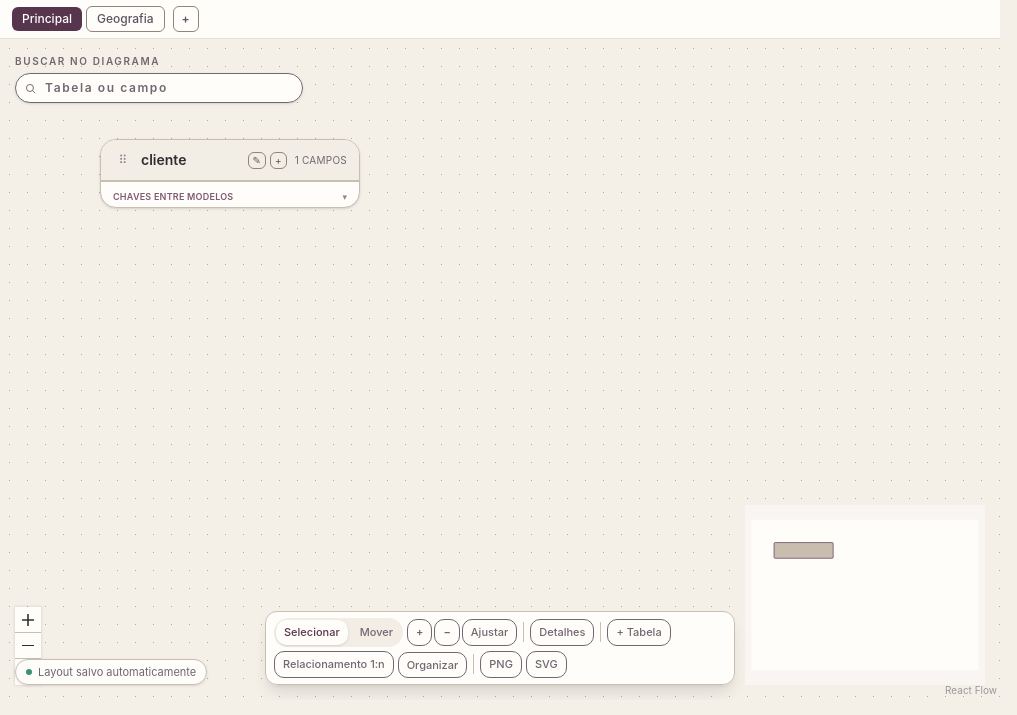
Test case: DiagramCanvas zones › deriva Chaves entre modelos para relacionamento entre zonas nas duas pontas
The image size is (1017, 715).
Check: the element with test id "diagram-node-cliente" is shown, box [100, 139, 360, 208]
Check: the element with test id "diagram-cross-zone-cliente" shows "Chaves entre modelos", box [113, 188, 347, 206]
Click the tab with test id "diagram-zone-tab-Geografia".
click(125, 19)  # box [86, 6, 164, 32]
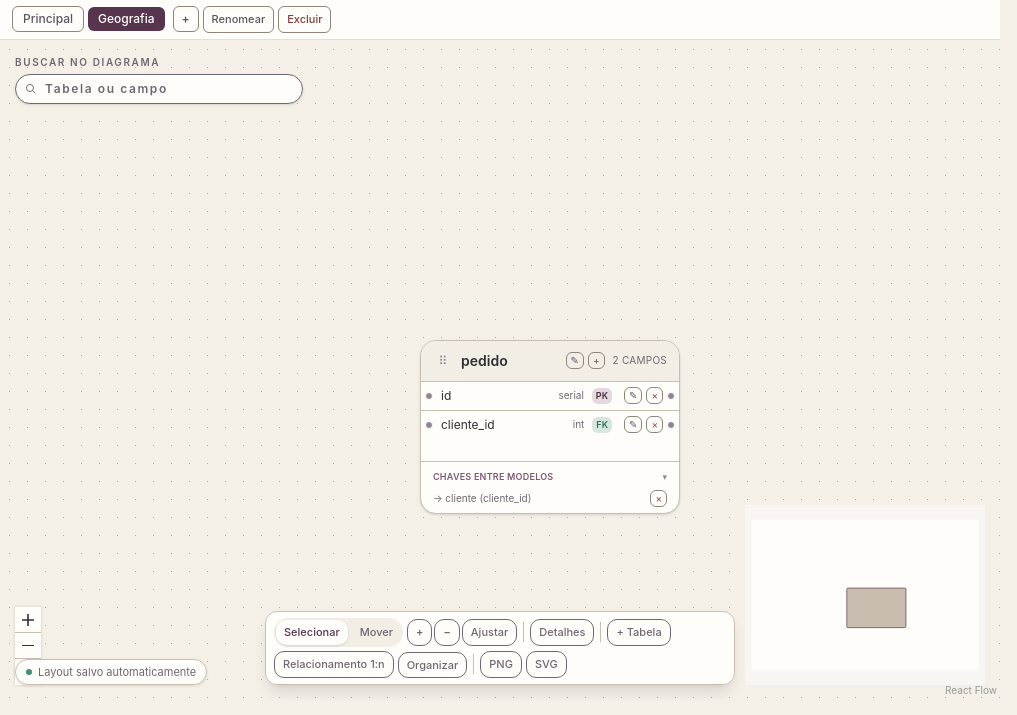
Check: the element with test id "diagram-node-pedido" is shown, box [420, 340, 680, 514]
Check: the element with test id "diagram-cross-zone-pedido" shows "Chaves entre modelos", box [433, 468, 667, 486]
